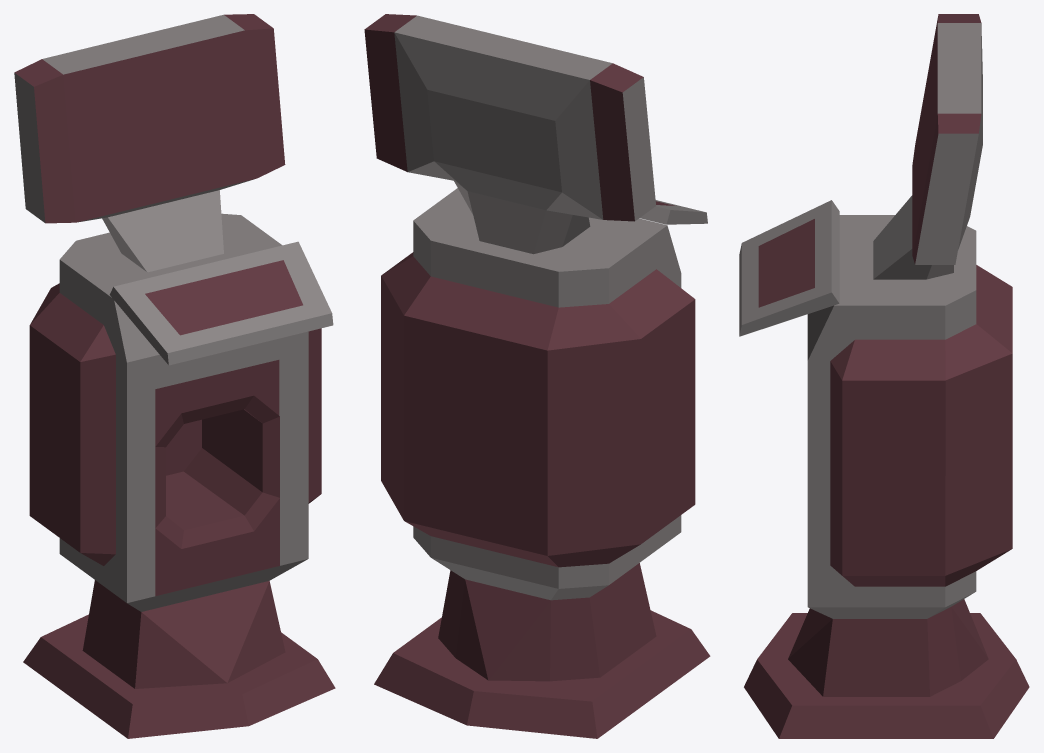
Rendered from scifi-chemistry-lab.fbx.
3 views of the same model, side by side, from view 1: azimuth 30°, elevation 25°; view 2: azimuth 150°, elevation 25°; view 3: azimuth 270°, elevation 25° (orthographic). The views are drawn at different scales.
Visible parts, largest first — view 1: scifi-chemistry-lab; view 2: scifi-chemistry-lab; view 3: scifi-chemistry-lab.
Part boxes in pixels (box(x1,y1,x2,y2)): scifi-chemistry-lab: box(14, 14, 335, 738); scifi-chemistry-lab: box(364, 14, 710, 738); scifi-chemistry-lab: box(739, 14, 1029, 738).
Size of the model in its own units: 0.7111 by 1.7 by 0.7233.
